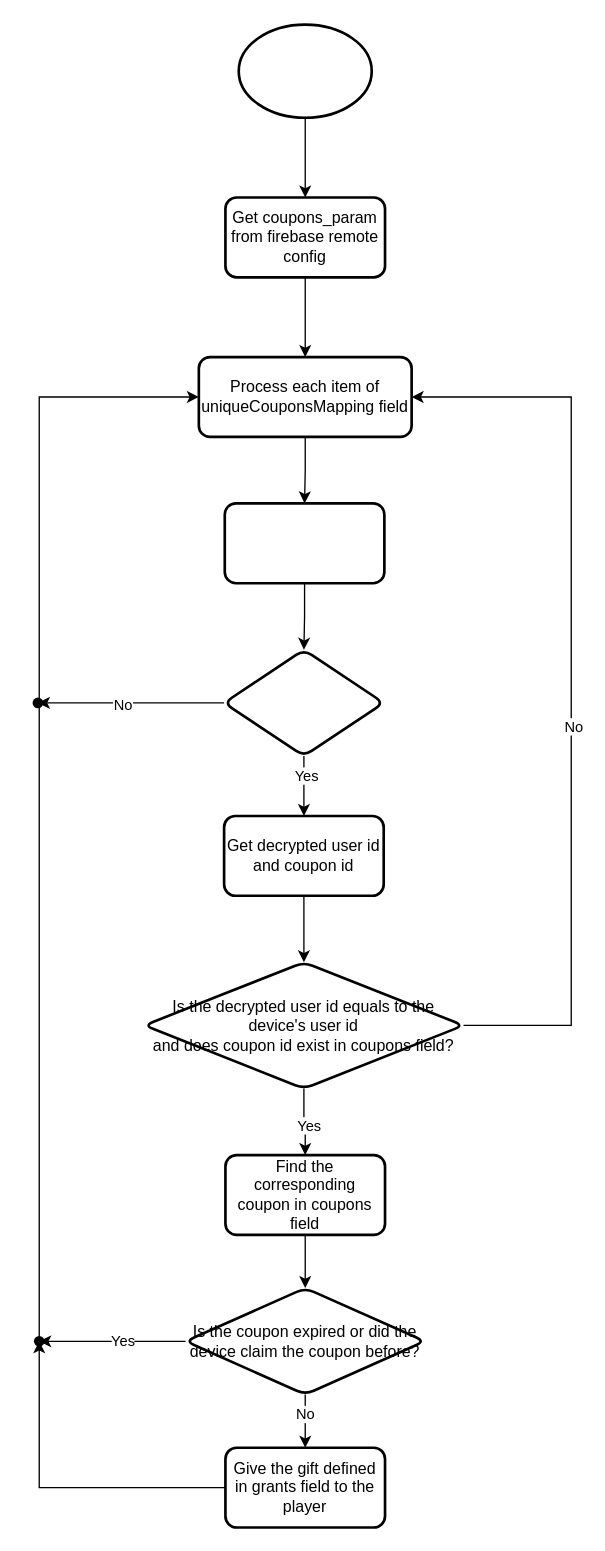
This 605x1551 diagram has some shape labels left out. Here are the shapes that lost their labels. From the top down, the box of each, then its label:
(237, 23, 372, 118): Game Start
(223, 501, 385, 584): Use the latest secret key to decrypt the secretCpnID field
(222, 648, 384, 757): Decryption is successful ?
